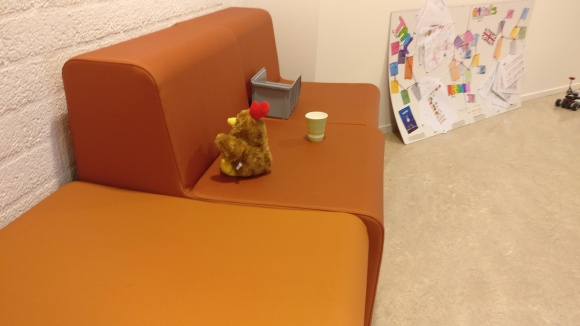car: (555, 73, 580, 111)
chicken: (215, 99, 274, 179)
cup: (304, 110, 328, 142)
